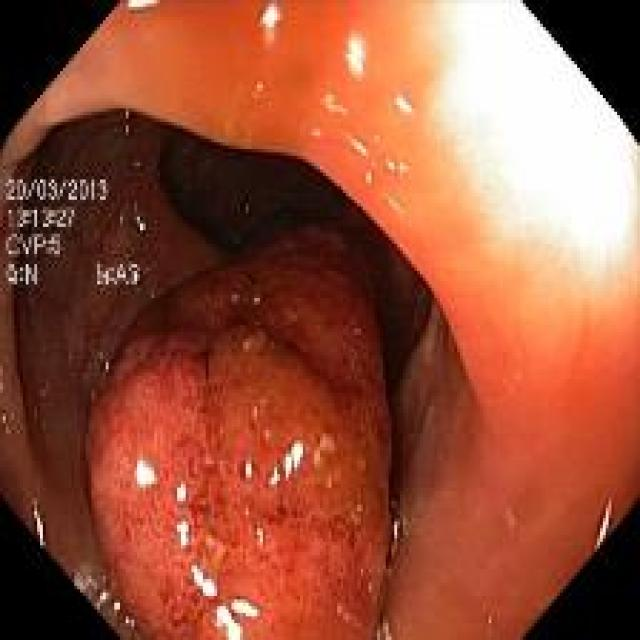Polyps: (86, 230, 391, 640)
